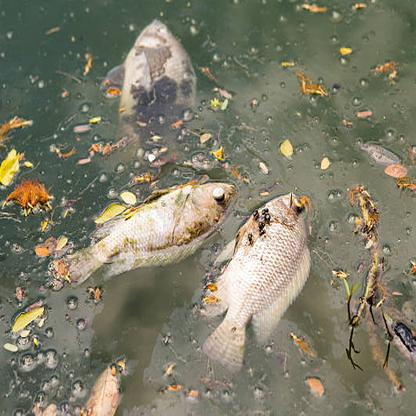deceased fish: (58, 176, 238, 299), (200, 194, 315, 366)
